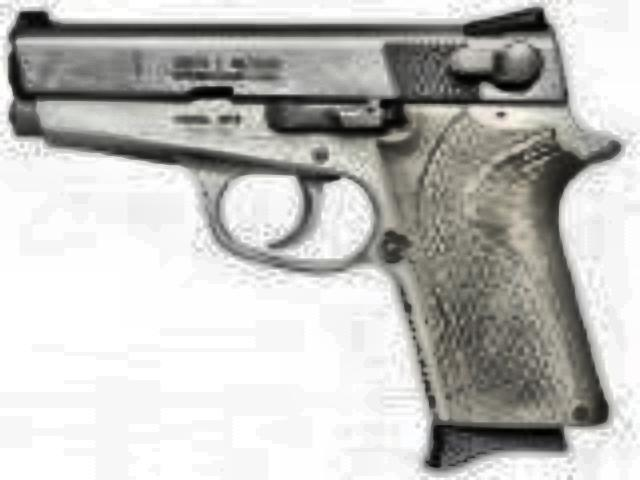pistol: (4, 0, 604, 452)
